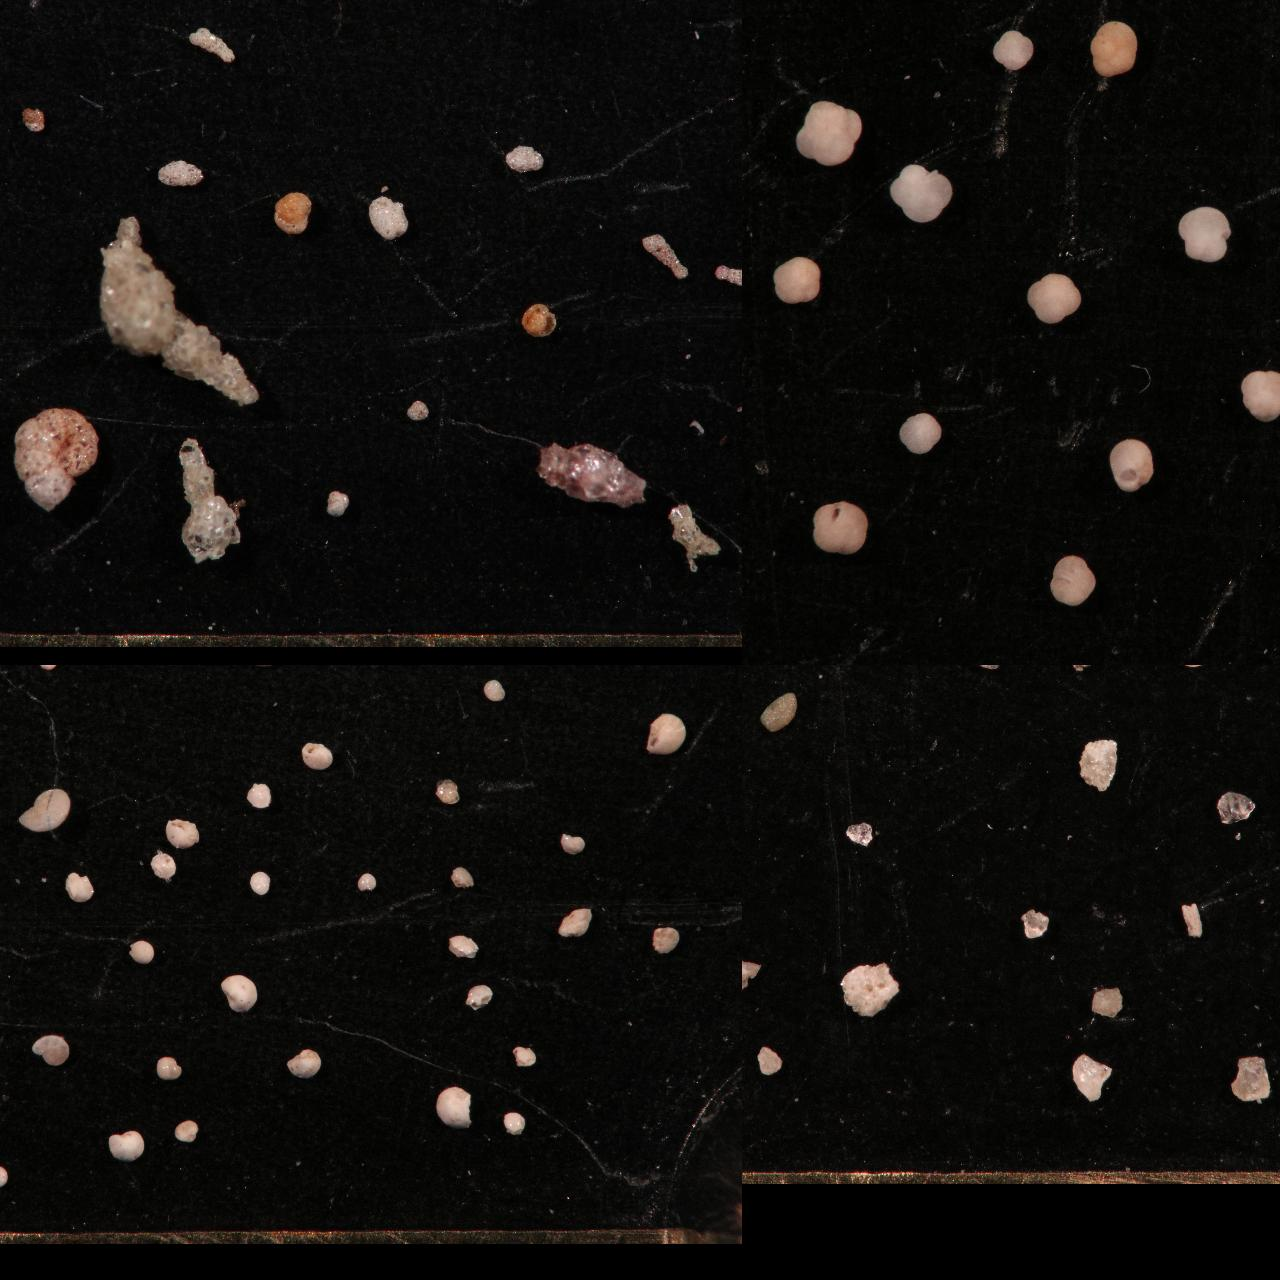Sediment: (742, 676, 791, 762), (837, 961, 900, 1017), (1067, 1051, 1117, 1104), (1077, 737, 1121, 790), (1071, 665, 1119, 709), (1228, 1055, 1272, 1101), (758, 688, 799, 731), (1084, 982, 1125, 1017), (1217, 789, 1255, 823), (812, 665, 855, 693), (1017, 908, 1055, 940), (1110, 665, 1163, 685), (742, 669, 762, 716), (1179, 903, 1205, 938), (893, 665, 930, 689), (1245, 665, 1280, 688), (840, 821, 873, 845), (756, 1046, 783, 1074), (1131, 665, 1169, 685), (742, 1024, 764, 1057), (742, 815, 760, 853), (742, 813, 758, 855), (742, 959, 761, 994), (742, 665, 764, 690), (742, 1009, 757, 1046), (742, 968, 757, 1003), (1183, 665, 1211, 682), (971, 665, 1005, 679), (742, 665, 758, 689), (742, 665, 760, 687), (742, 832, 751, 864), (742, 665, 767, 676), (742, 665, 761, 679), (742, 665, 760, 678), (742, 665, 757, 679), (742, 1088, 753, 1108), (742, 665, 755, 680)
agglutinated: (97, 212, 259, 406), (13, 406, 101, 511), (177, 438, 245, 564), (537, 442, 649, 509), (301, 0, 428, 36), (667, 503, 722, 572), (639, 231, 689, 279), (366, 195, 410, 238), (272, 189, 312, 233), (188, 26, 237, 61), (0, 137, 30, 189), (519, 302, 558, 338), (169, 0, 222, 25), (156, 159, 204, 186), (503, 144, 545, 172), (651, 0, 700, 22), (712, 263, 742, 287), (431, 0, 468, 18), (326, 490, 350, 516), (0, 309, 21, 339), (20, 105, 45, 130), (407, 400, 431, 421), (0, 335, 15, 367), (0, 0, 22, 20), (593, 0, 621, 13), (0, 0, 23, 15), (0, 0, 33, 11), (0, 169, 11, 195), (0, 0, 16, 15)
calcareous: (654, 665, 742, 706), (16, 787, 72, 830), (645, 710, 687, 754), (436, 1084, 472, 1128), (220, 973, 258, 1012), (30, 1033, 72, 1063), (107, 1129, 145, 1159), (0, 994, 25, 1041), (285, 1048, 321, 1078), (557, 906, 593, 937), (165, 817, 199, 846), (240, 665, 282, 687), (64, 871, 95, 901), (300, 742, 334, 769), (464, 983, 493, 1012), (0, 968, 27, 998), (490, 665, 531, 683), (447, 933, 479, 956), (651, 926, 680, 952), (151, 852, 177, 878), (434, 777, 459, 803), (245, 782, 272, 806), (129, 938, 155, 962), (156, 1055, 182, 1080), (173, 1118, 200, 1142), (431, 665, 467, 682), (560, 831, 586, 855), (248, 870, 272, 894), (482, 676, 506, 700), (35, 665, 66, 683), (511, 1044, 537, 1065), (451, 865, 475, 887), (503, 1110, 525, 1133), (0, 1114, 16, 1145), (659, 665, 693, 680), (0, 810, 18, 838), (0, 669, 15, 701), (266, 665, 297, 680), (0, 760, 14, 791), (0, 665, 22, 685), (0, 931, 15, 956), (356, 872, 377, 890), (161, 665, 188, 678), (311, 665, 333, 680), (0, 1160, 12, 1186), (0, 708, 12, 731), (38, 665, 59, 678), (451, 665, 474, 676), (549, 665, 573, 675), (0, 665, 18, 679), (170, 665, 193, 675), (0, 924, 12, 944), (0, 692, 12, 709), (0, 665, 15, 678), (0, 665, 12, 680), (108, 665, 129, 673), (0, 799, 9, 817), (0, 665, 13, 676), (0, 665, 12, 678), (0, 665, 11, 676), (0, 665, 11, 676), (0, 665, 12, 675)
planktic: (795, 98, 864, 166), (888, 162, 954, 223), (810, 499, 871, 554), (1177, 204, 1232, 263), (1024, 270, 1083, 324), (1089, 19, 1139, 75), (1048, 553, 1098, 607), (1107, 436, 1157, 490), (771, 254, 823, 306), (1239, 367, 1280, 424), (898, 411, 945, 455), (992, 28, 1035, 69), (742, 199, 765, 241), (1244, 0, 1280, 23)
